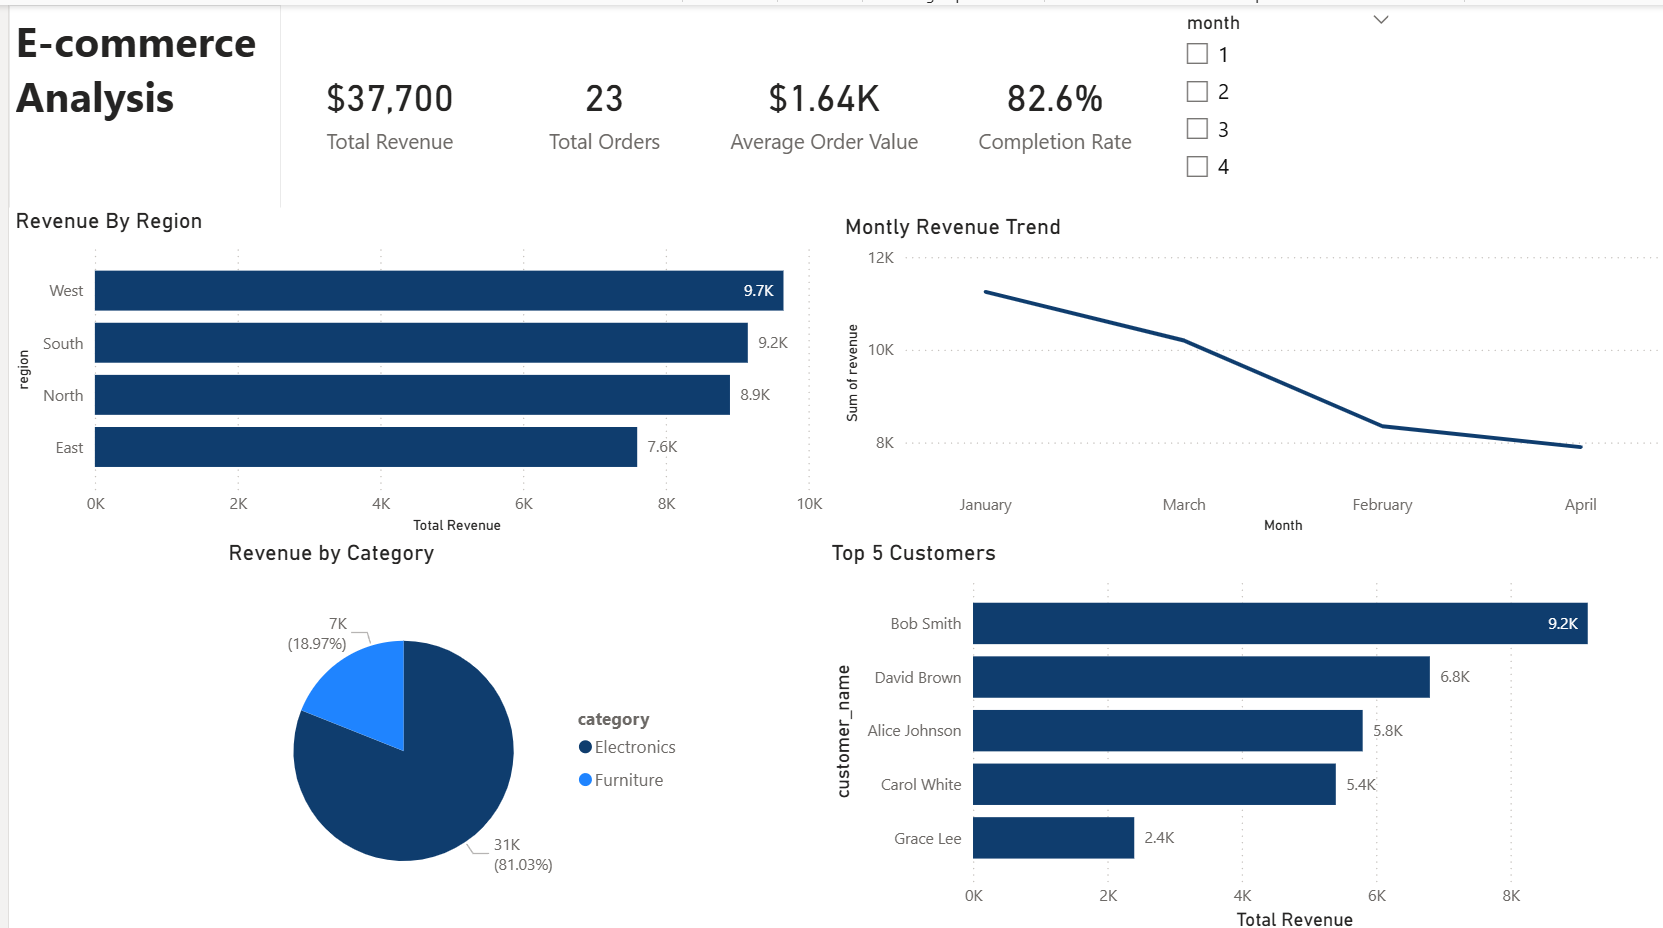

This screenshot's page, from the dashboard's own definition file:
{"tool":"powerbi","page":{"name":"Page 1","canvas":[1280,720],"ordinal":0},"visuals":[{"type":"card","fields":{"Values":["Sum(Cleaned_Data.revenue)"]},"box":[209.3,0,168.3,160.9],"z":0},{"type":"card","fields":{"Values":["CountNonNull(Cleaned_Data.order_id)"]},"box":[377.5,0,164.1,160.9],"z":1000},{"type":"card","fields":{"Values":["Avg(Cleaned_Data.revenue)"]},"box":[541.6,0,176.7,160.9],"z":2000},{"type":"textbox","box":[0,0,209.3,161.5],"z":3000},{"type":"card","fields":{"Values":["Avg(Cleaned_Data.is_completed)"]},"box":[718.3,0,178.8,160.9],"z":4000},{"type":"barChart","title":"Revenue By Region","fields":{"Y":["Sum(Cleaned_Data.revenue)"],"Category":["Cleaned_Data.region"]},"box":[0,156.7,640.4,255.5],"z":5000},{"type":"lineChart","title":"Montly Revenue Trend","fields":{"Category":["Cleaned_Data.month_name"],"Y":["Sum(Cleaned_Data.revenue)"]},"box":[640.4,160.9,639.4,251.3],"z":6000},{"type":"slicer","fields":{"Values":["Cleaned_Data.month"]},"box":[897,0,181.9,160.9],"z":7000},{"type":"pieChart","title":"Revenue by Category","fields":{"Category":["Cleaned_Data.category"],"Y":["Sum(Cleaned_Data.revenue)"]},"box":[165.1,412.7,364.9,307.4],"z":8001},{"type":"clusteredBarChart","title":"Top 5 Customers","fields":{"Category":["Cleaned_Data.customer_name"],"Y":["Sum(Cleaned_Data.revenue)"]},"box":[630.4,412.7,623.3,306.2],"z":8002}]}

Visuals, with their boxes in screenshot pixels (x1, y1, x2, y2), scaled from the page's 1280x720 canvas onto the 1663x928 screenshot:
card - Sum(Cleaned_Data.revenue): <bbox>272, 0, 491, 207</bbox>
card - CountNonNull(Cleaned_Data.order_id): <bbox>490, 0, 704, 207</bbox>
card - Avg(Cleaned_Data.revenue): <bbox>704, 0, 933, 207</bbox>
textbox: <bbox>0, 0, 272, 208</bbox>
card - Avg(Cleaned_Data.is_completed): <bbox>933, 0, 1166, 207</bbox>
"Revenue By Region" barChart: <bbox>0, 202, 832, 531</bbox>
"Montly Revenue Trend" lineChart: <bbox>832, 207, 1662, 531</bbox>
slicer - Cleaned_Data.month: <bbox>1165, 0, 1402, 207</bbox>
"Revenue by Category" pieChart: <bbox>215, 532, 689, 927</bbox>
"Top 5 Customers" clusteredBarChart: <bbox>819, 532, 1629, 927</bbox>
